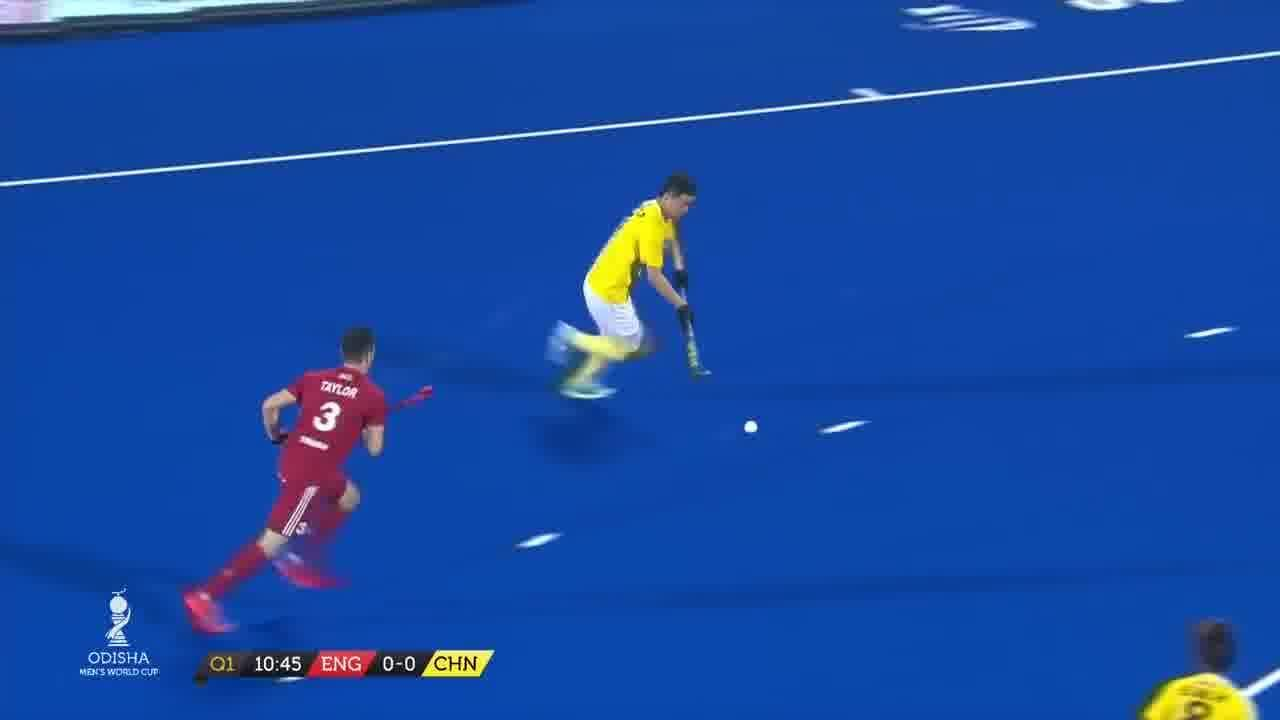ball: (742, 412, 766, 440)
